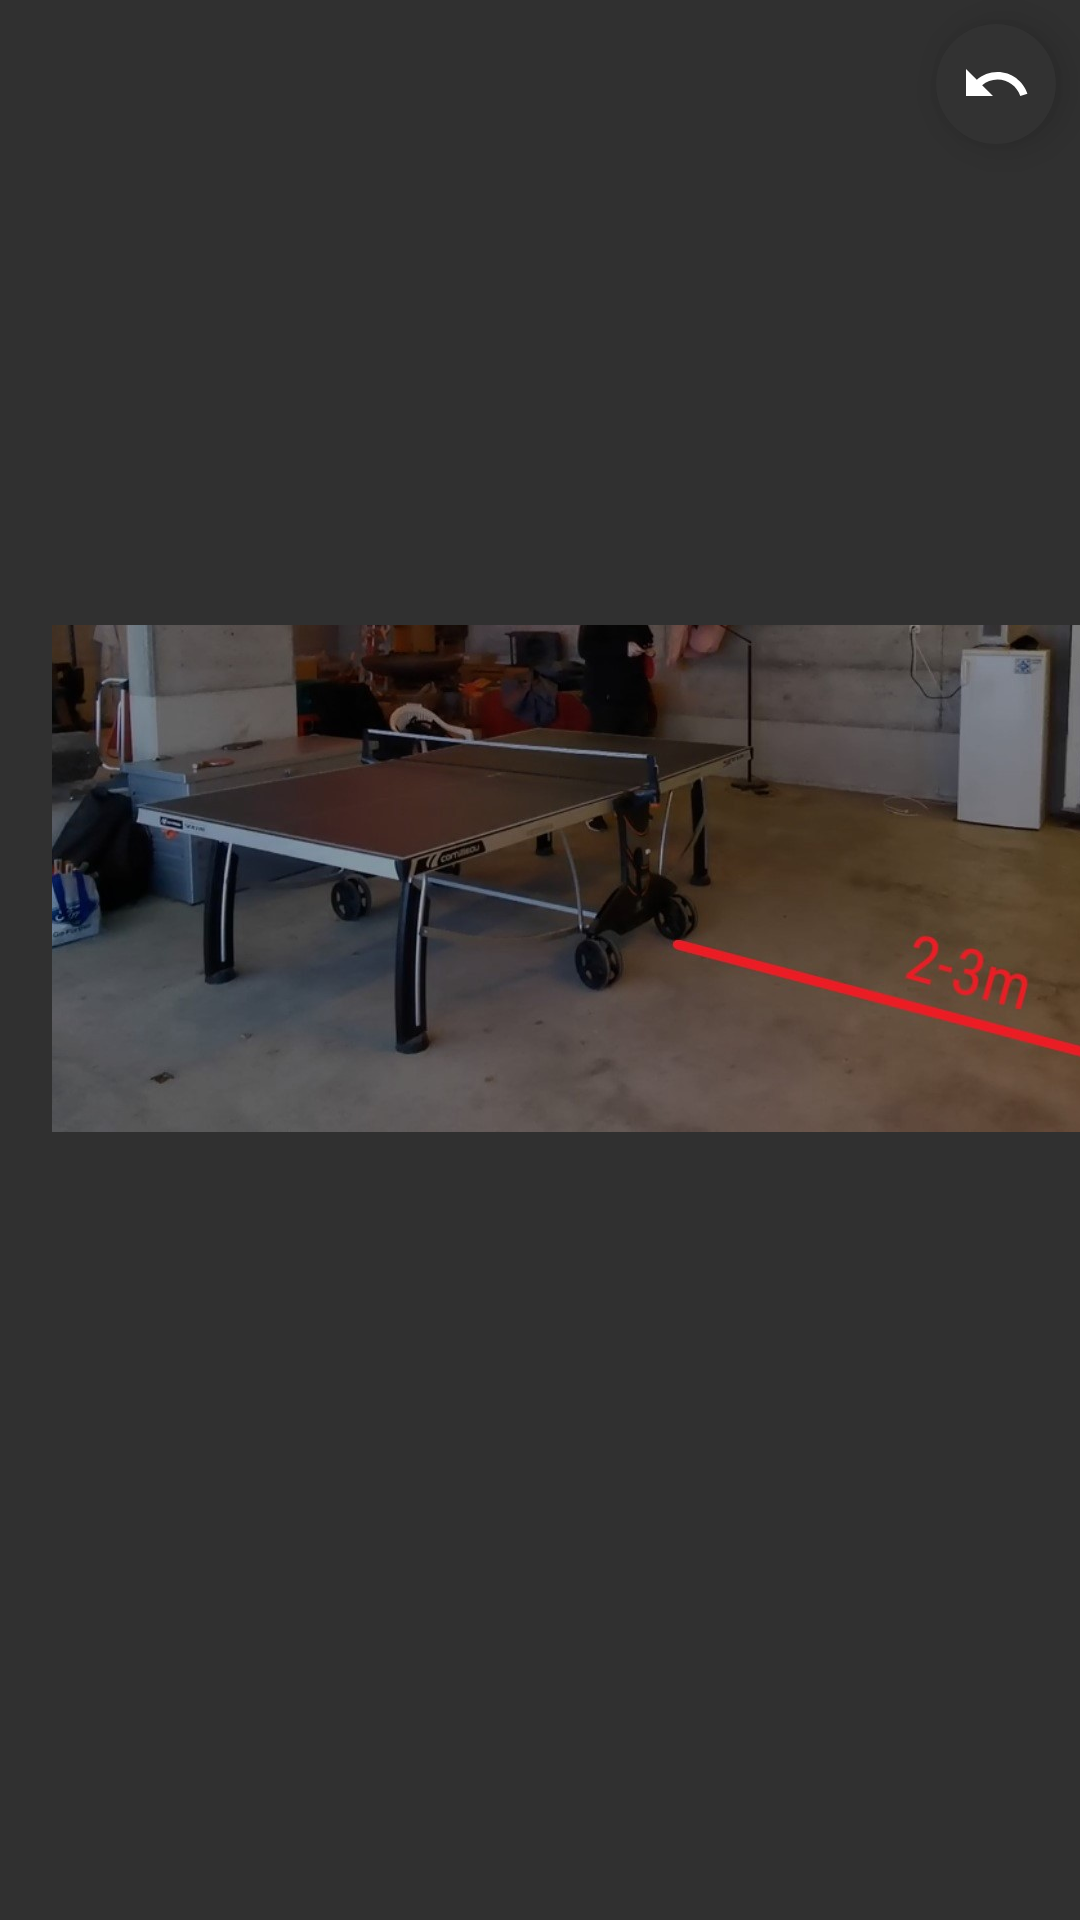

Icons on this 1080*1920 Android screen, each with its box as (x1, y1, x2, y2):
undo: (966, 69, 1028, 96)
